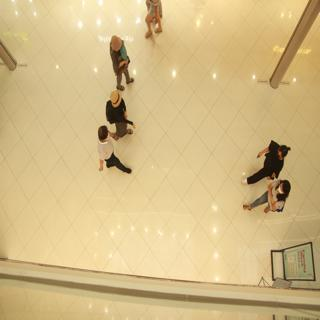person: (238, 136, 298, 178), (93, 118, 130, 186), (244, 180, 294, 225), (102, 31, 142, 81), (102, 85, 137, 130)
